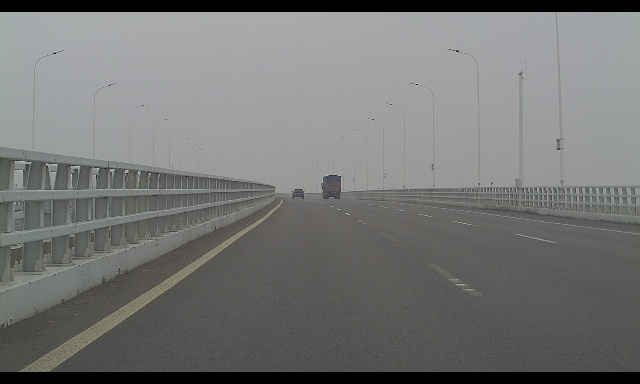car: (292, 189, 304, 198)
truck: (321, 175, 341, 199)
